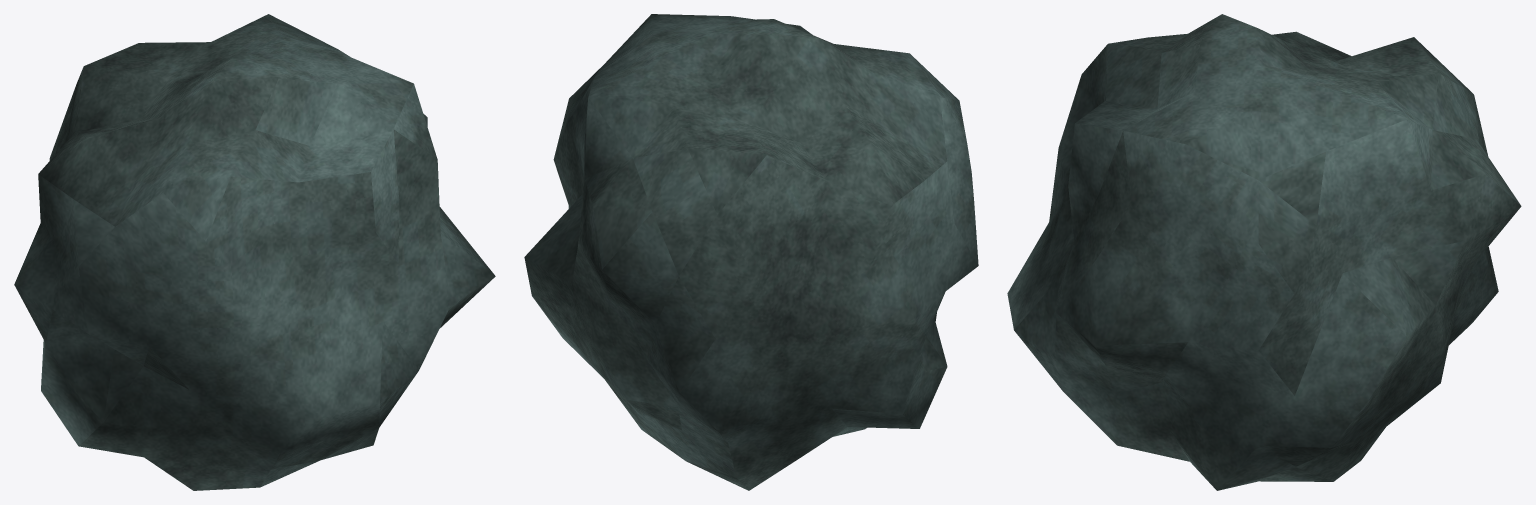
File: rock_3.glb
3 views of the same model, side by side, from view 1: azimuth 30°, elevation 25°; view 2: azimuth 150°, elevation 25°; view 3: azimuth 270°, elevation 25° (orthographic). The views are drawn at different scales.
Parts seen in each view (by area): view 1: rock_3_Rock; view 2: rock_3_Rock; view 3: rock_3_Rock.
Part boxes in pixels (x1=…): rock_3_Rock: x1=14, y1=14, x2=495, y2=490; rock_3_Rock: x1=524, y1=14, x2=978, y2=490; rock_3_Rock: x1=1007, y1=14, x2=1521, y2=490.
Size of the model in its own units: 2.04 by 2.2 by 2.26.
1 material, 1 textured.
